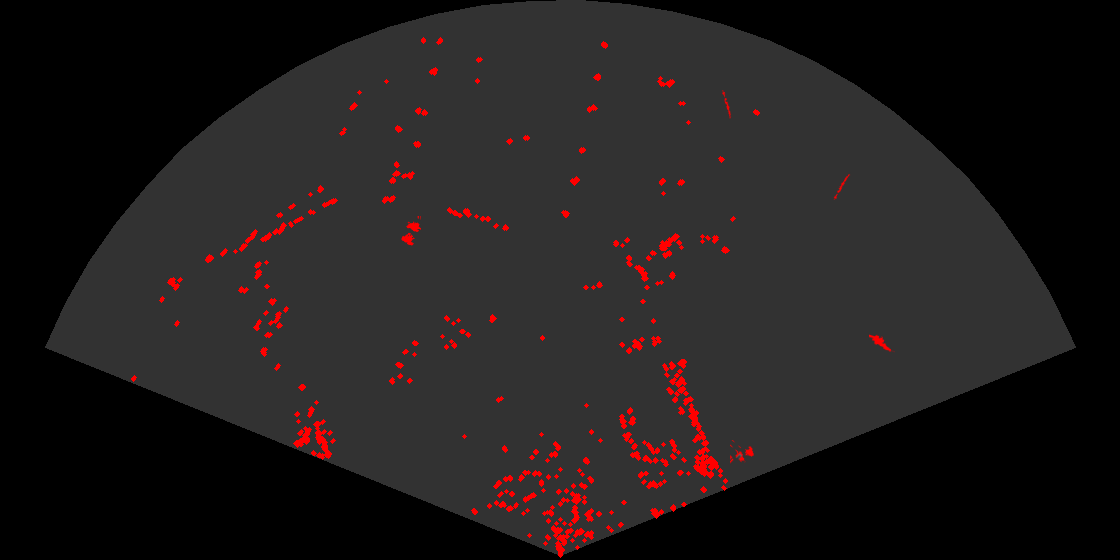cage: (400, 216, 421, 247), (730, 440, 755, 465)
chain: (832, 172, 852, 200), (720, 90, 733, 120)
frogman: (869, 333, 895, 353)
